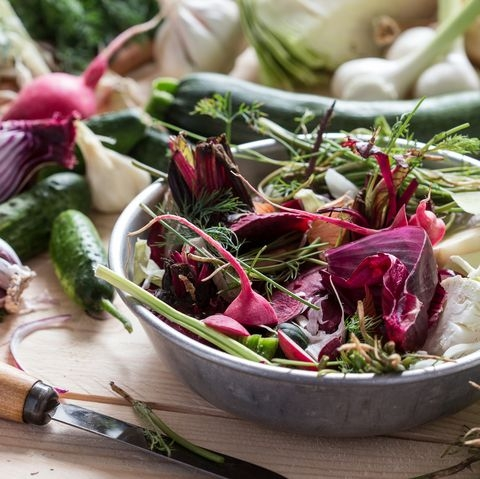kitchen_waste: (139, 64, 479, 150), (90, 259, 276, 372), (310, 221, 456, 344), (152, 201, 285, 335), (37, 204, 151, 337), (45, 107, 175, 216), (10, 55, 147, 148), (162, 131, 277, 233), (2, 145, 102, 257), (425, 272, 480, 359)
metal: (1, 352, 287, 479)
